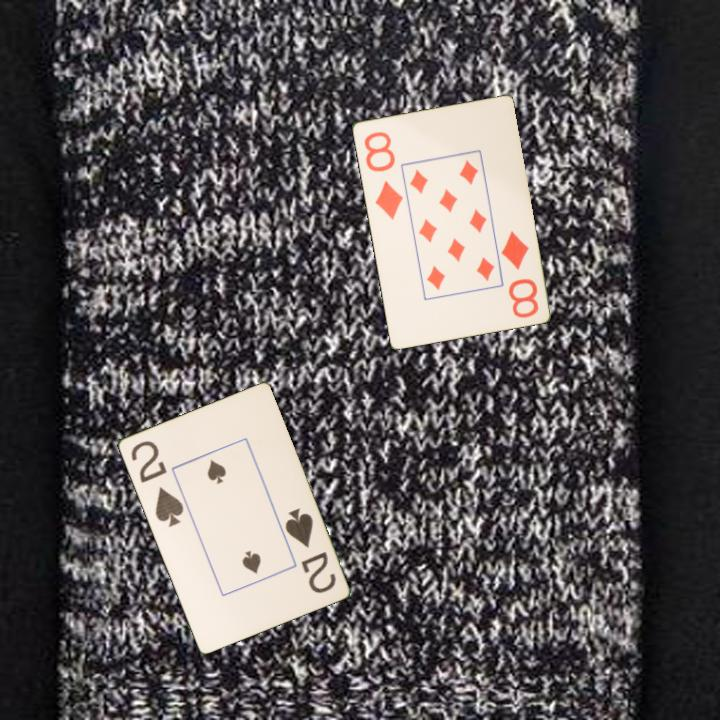2s: (127, 437, 186, 529), (281, 504, 338, 596)
8d: (360, 128, 405, 222), (497, 227, 541, 321)
